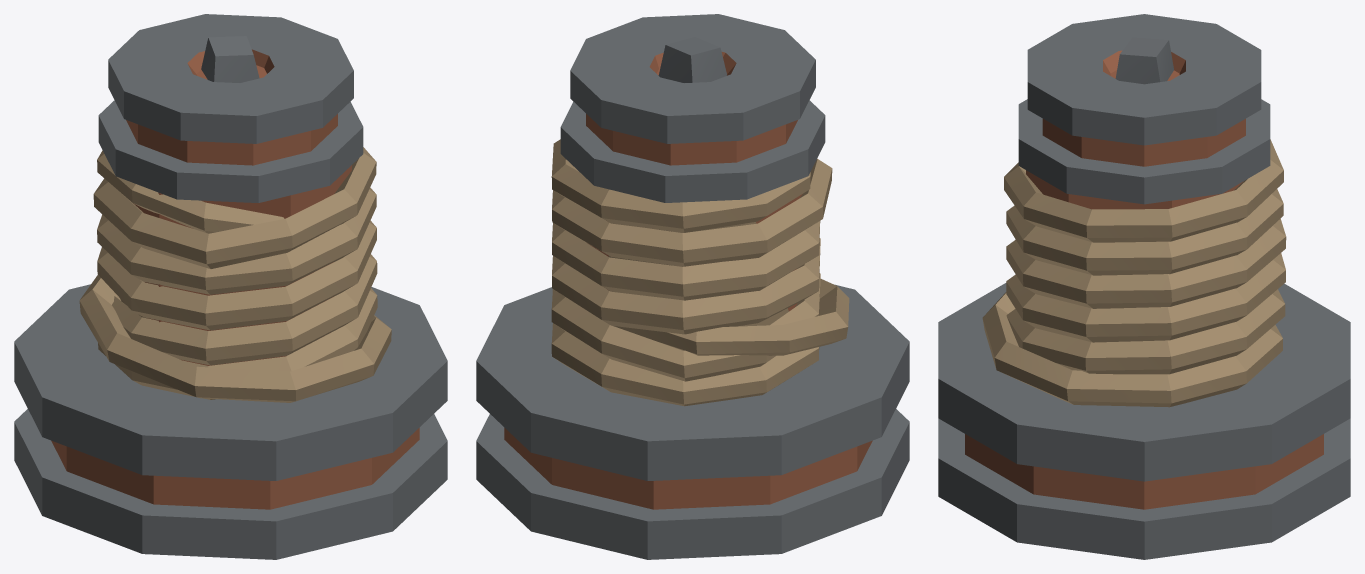
Rendered from LightWoodMechSmallIceScrewCap1.fbx.
3 views of the same model, side by side, from view 1: azimuth 30°, elevation 25°; view 2: azimuth 150°, elevation 25°; view 3: azimuth 270°, elevation 25° (orthographic).
Parts seen in each view (by area): view 1: LightWoodMechSmallIceScrewCap1; view 2: LightWoodMechSmallIceScrewCap1; view 3: LightWoodMechSmallIceScrewCap1.
Part boxes in pixels (x1=…): LightWoodMechSmallIceScrewCap1: x1=14, y1=14, x2=447, y2=559; LightWoodMechSmallIceScrewCap1: x1=476, y1=14, x2=909, y2=559; LightWoodMechSmallIceScrewCap1: x1=938, y1=14, x2=1350, y2=559.
Size of the model in its own units: 138 by 148 by 131.
